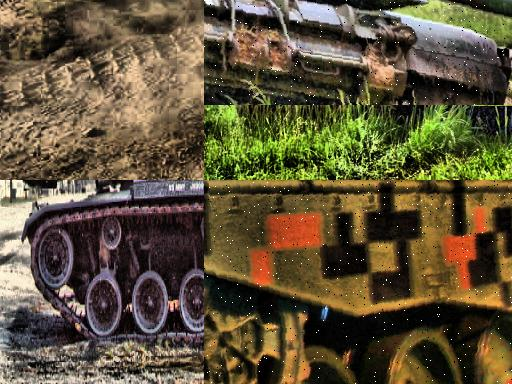tanks: (205, 181, 512, 384), (205, 1, 510, 106), (23, 181, 205, 337), (25, 181, 57, 190)
